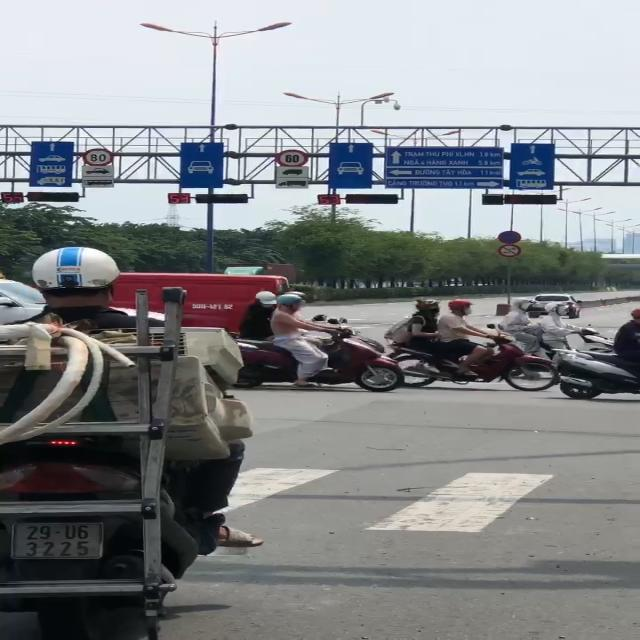Bien bao toc do toi da cho phep: (82, 148, 120, 167)
